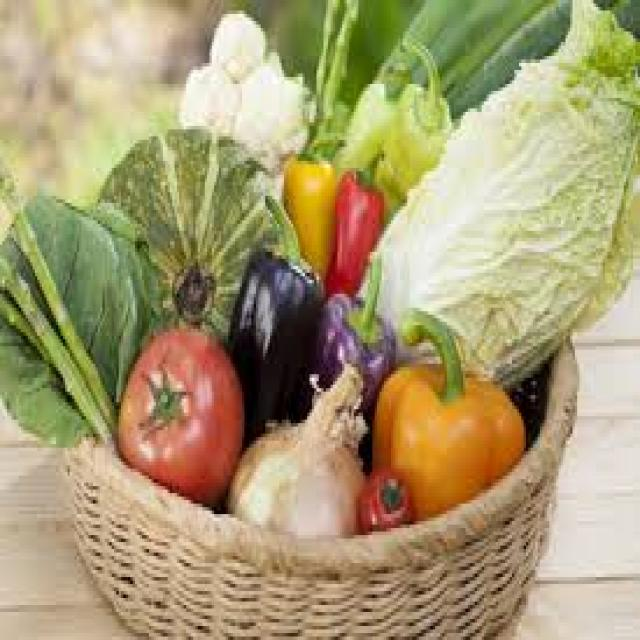food_waste: (0, 0, 638, 535)
